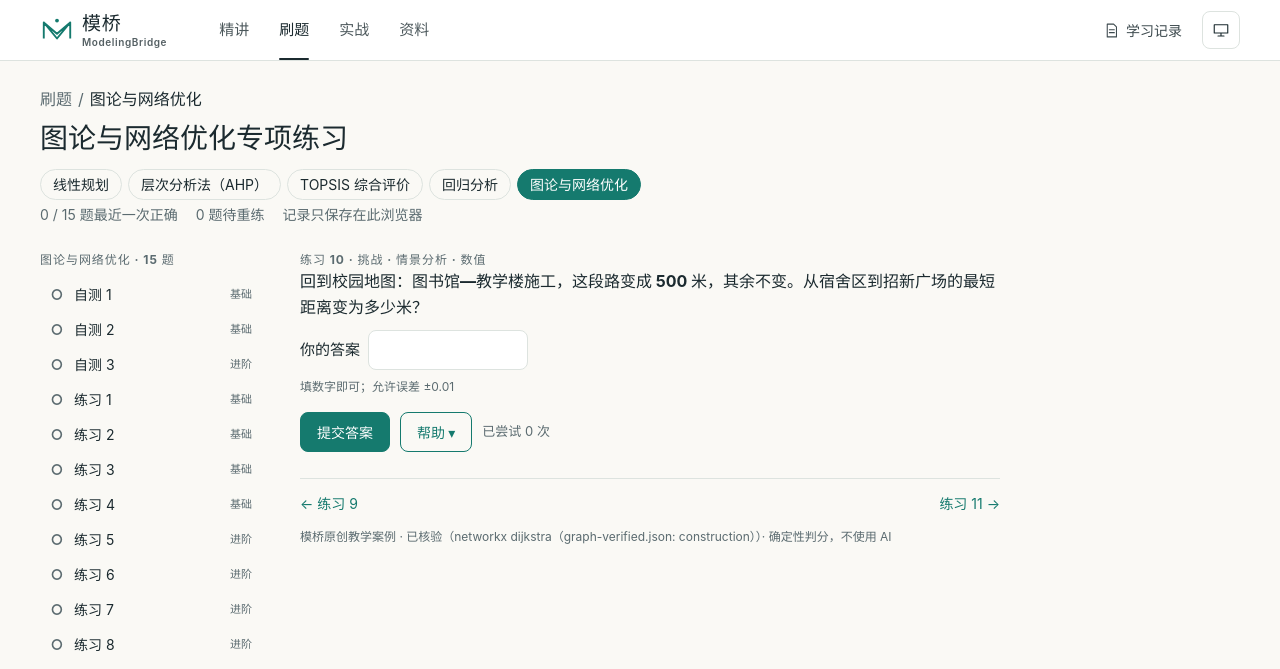
Test: practice loop › diagnoses a stale construction answer, sends the learner to the section and brings them back
Expected: the heading "图论与网络优化专项练习" is shown, [40, 121, 348, 155]
Type "1080" into the field named "你的数值答案". click: (448,350)
box: [368, 330, 528, 370]
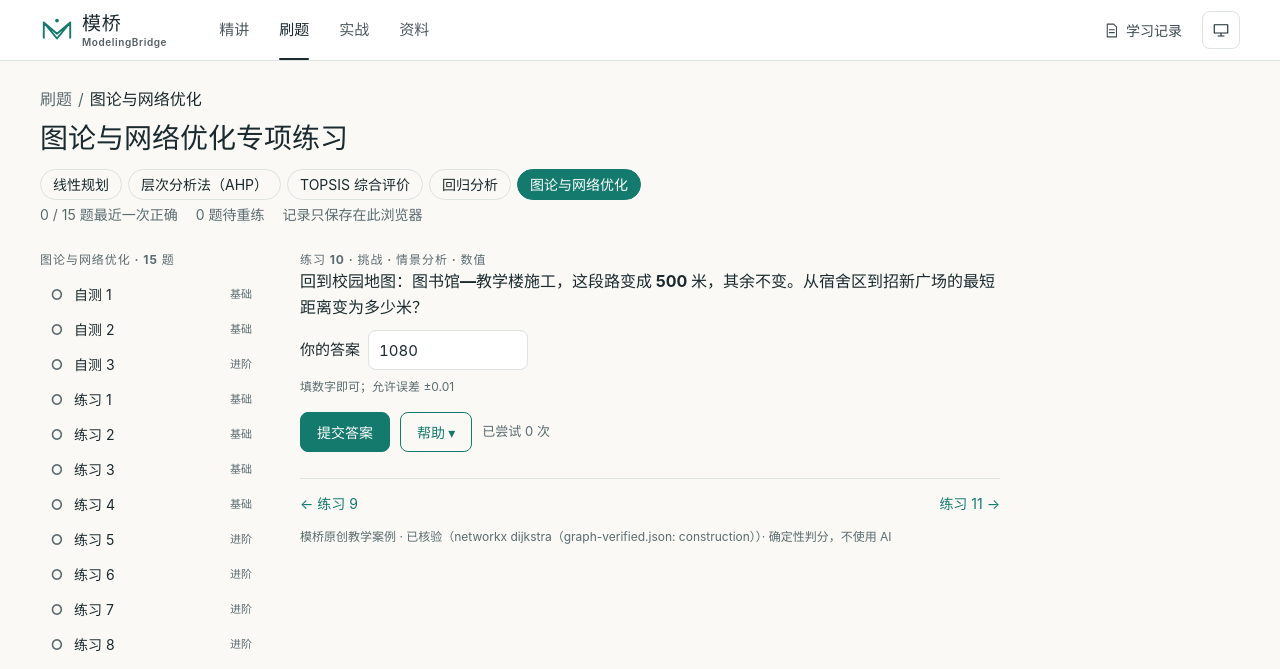
Click the button "提交答案". click: (345,432)
box: [300, 412, 390, 452]
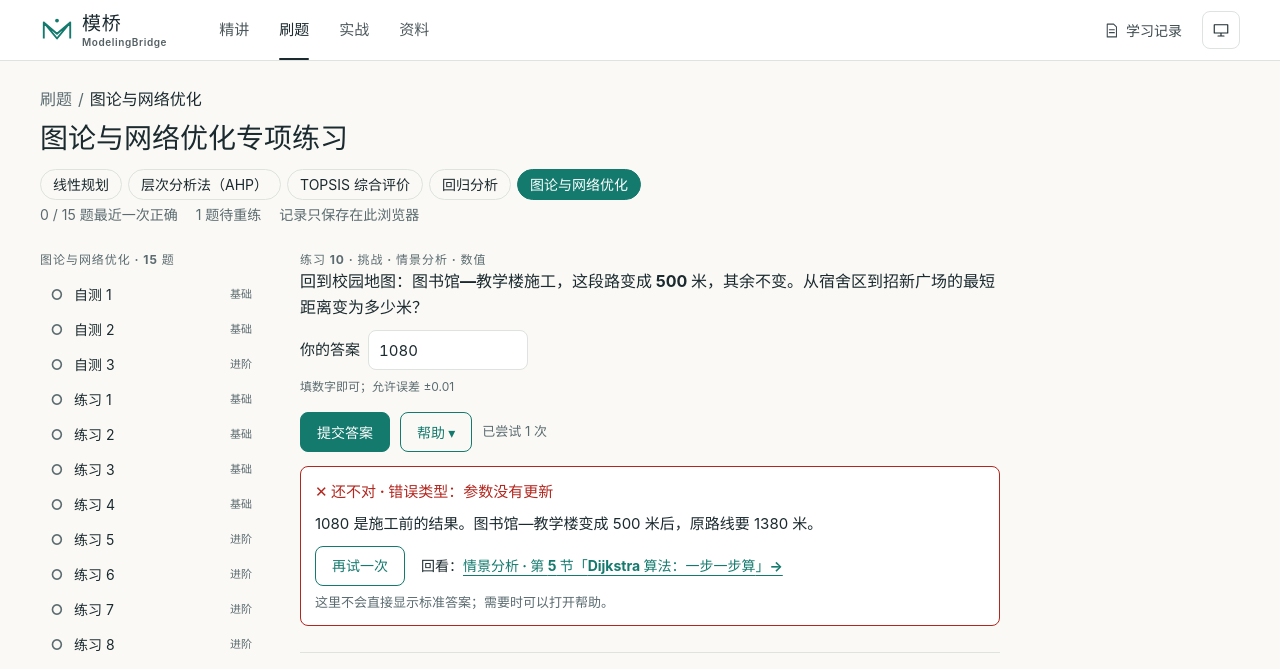
Expected: the text "✕ 还不对 · 错误类型：参数没有更新" is shown, [315, 482, 553, 501]
Click the button "情景分析 · 第 5 节「Dijkstra 算法：一步一步算」→". click: (623,566)
box: [463, 554, 783, 578]
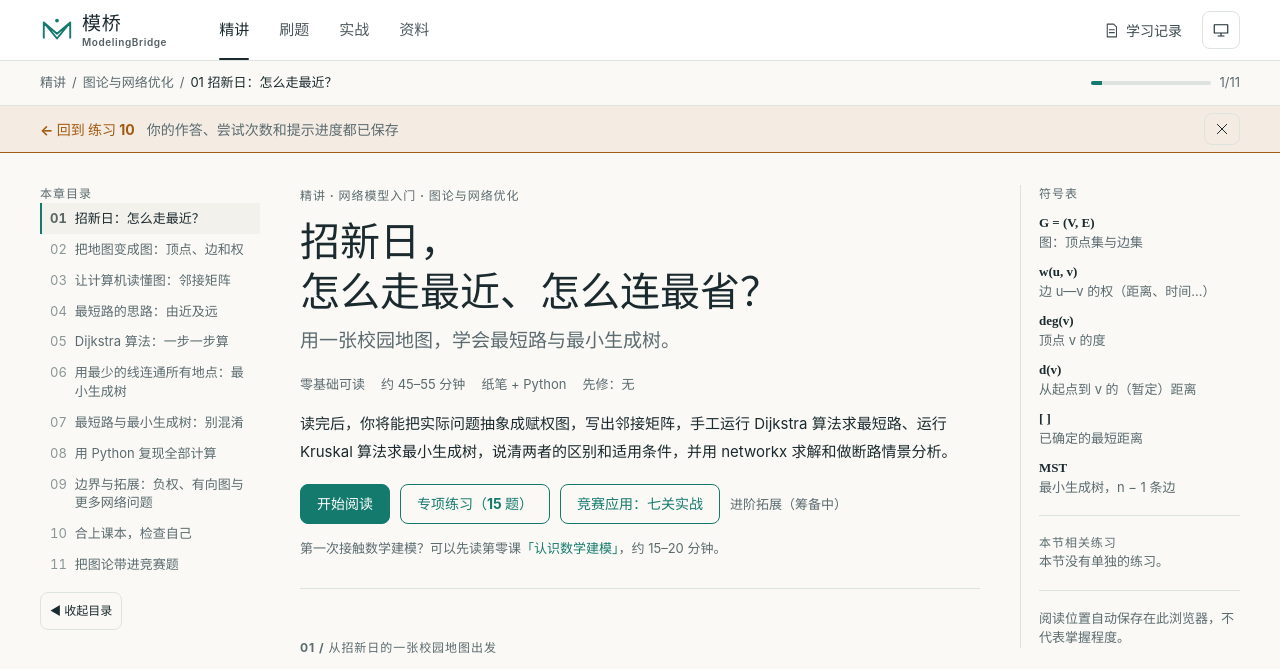
Click the link "← 回到 练习 10". click: (87,129)
box: [40, 118, 135, 140]
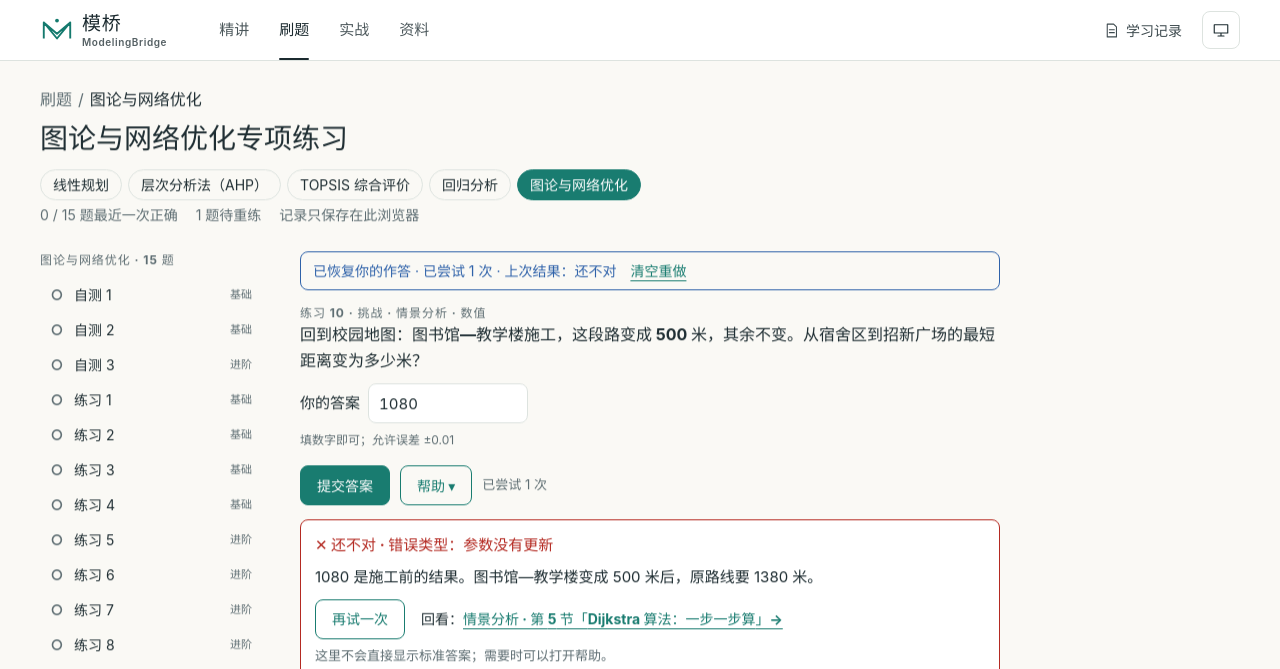
Expected: the field named "你的数值答案" holds "1080", [368, 383, 528, 423]
